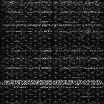lte: (1, 80, 104, 85), (1, 23, 103, 27)
